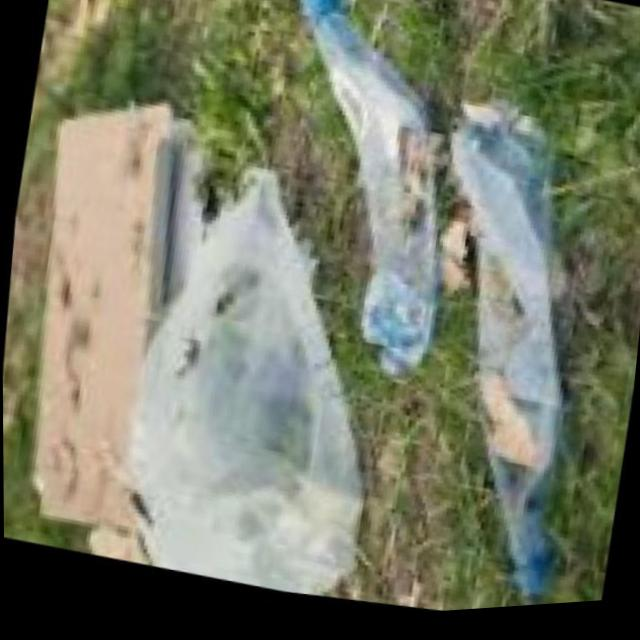leaf: (387, 102, 630, 620), (236, 0, 493, 403)
metal: (111, 158, 407, 624)
trash: (0, 61, 242, 583)
